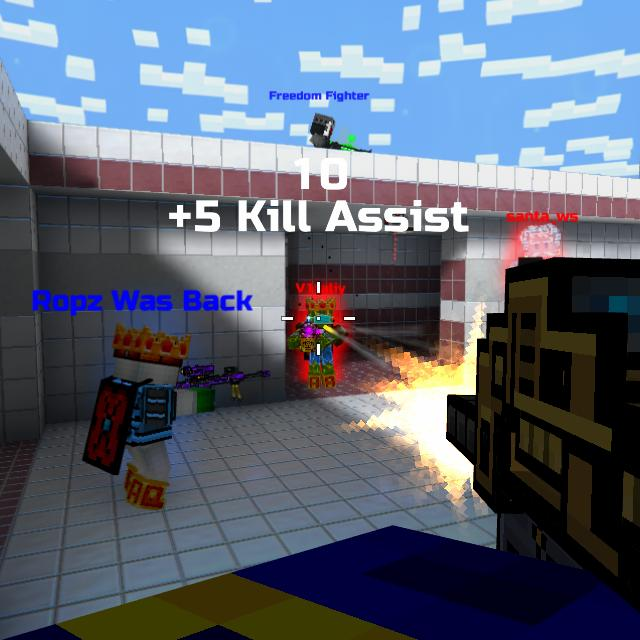Enemy: (287, 305, 346, 391), (515, 225, 561, 265)
